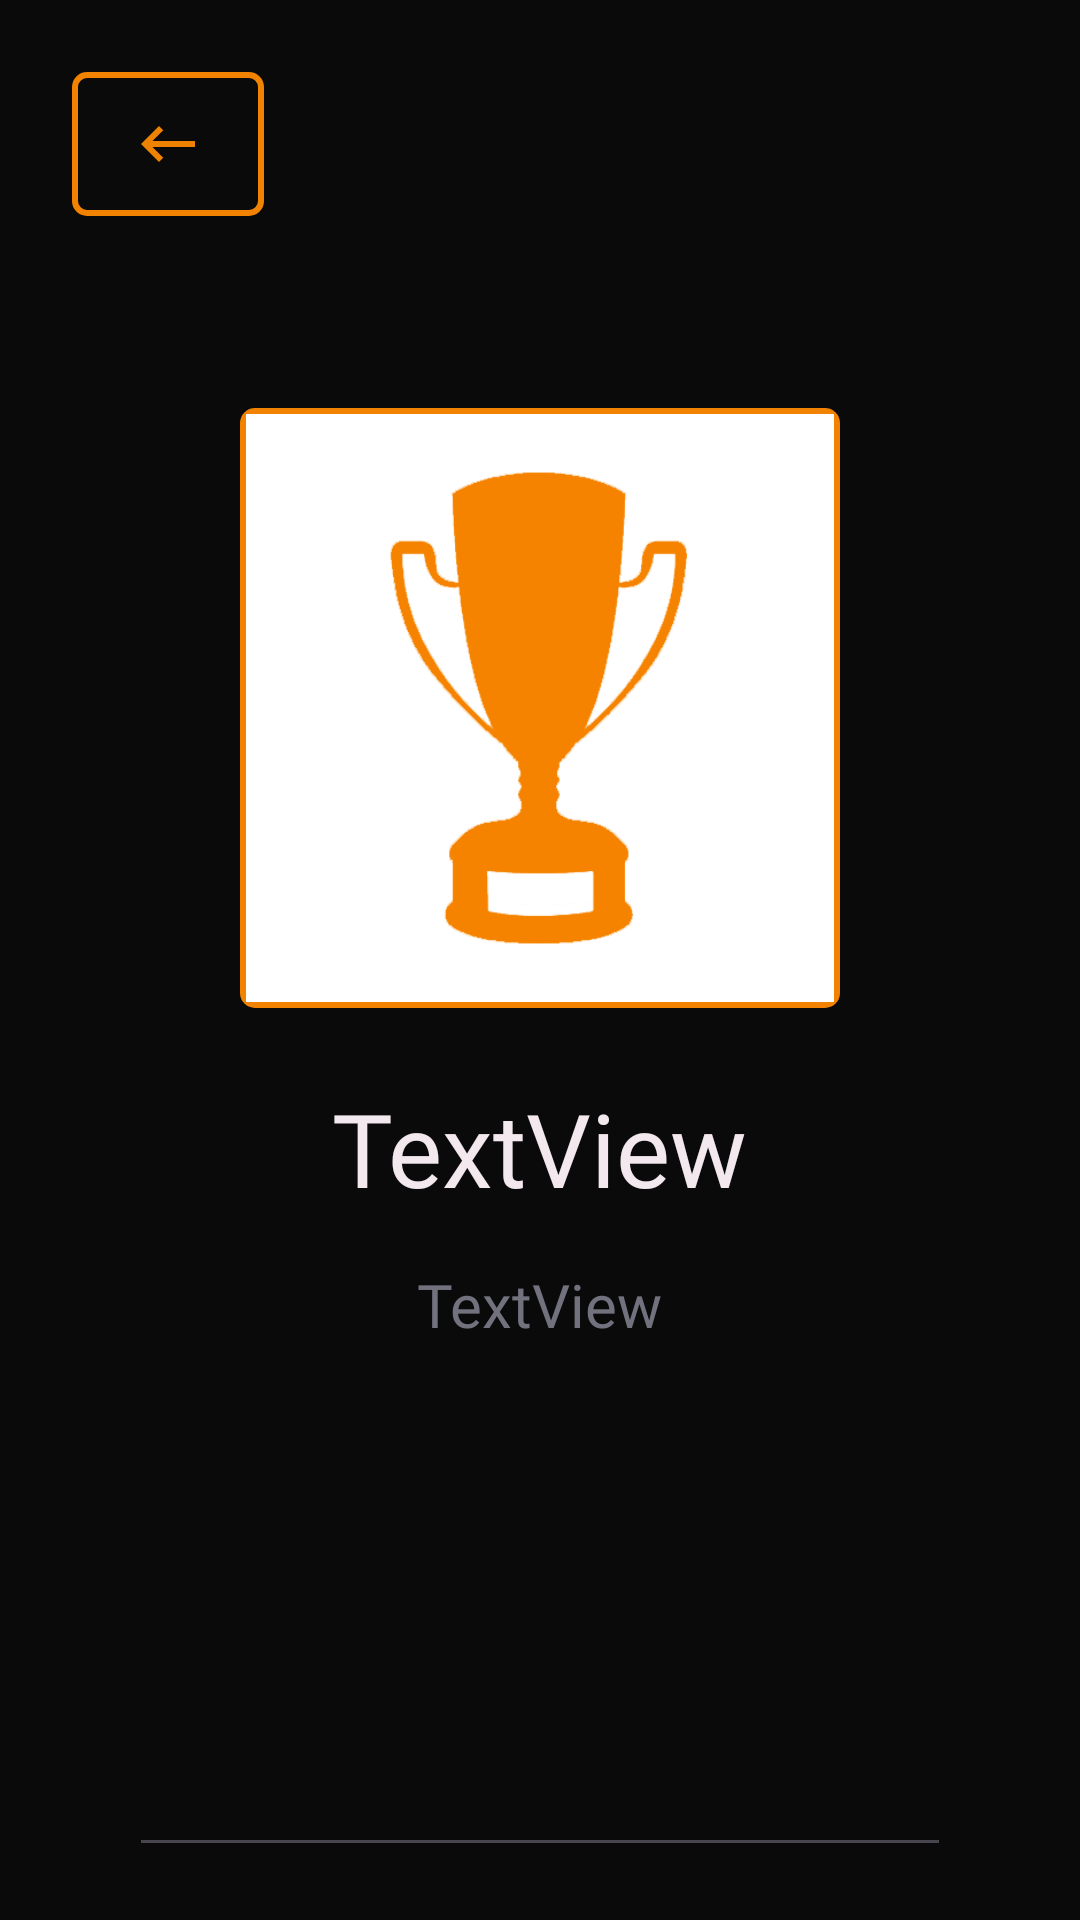

Screen size 1080px×1920px. Icon name, then its center in pixels as [x,y]:
keyboard backspace: [168,144]
